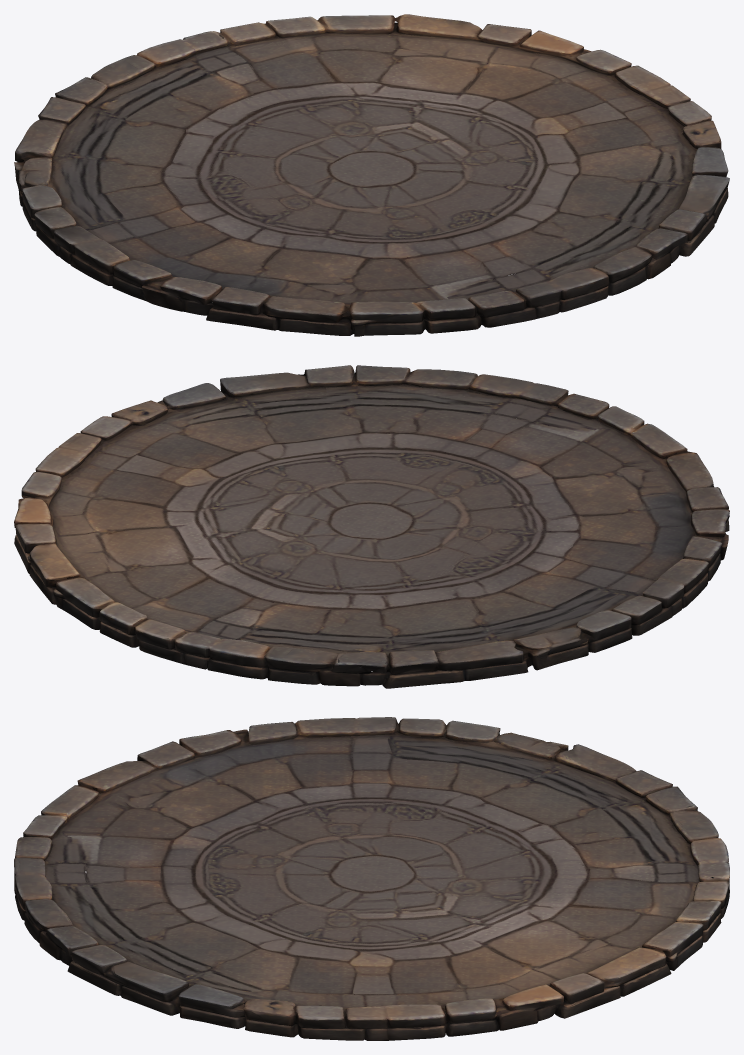
File: ritual-platform-desktop.glb
The picture shows the model from 3 angles, top to bottom: view 1: azimuth 30°, elevation 25°; view 2: azimuth 150°, elevation 25°; view 3: azimuth 270°, elevation 25°; orthographic projection.
Visible parts, largest first — view 1: ritual-platform; view 2: ritual-platform; view 3: ritual-platform.
Boxes of the visible parts, box(x1,y1,x2,y2) form: ritual-platform: box(14, 14, 729, 336); ritual-platform: box(14, 365, 729, 688); ritual-platform: box(14, 717, 729, 1040).
Bounding box in the file's own units: 11.1 × 0.4209 × 11.1.
1 material, 1 textured.
